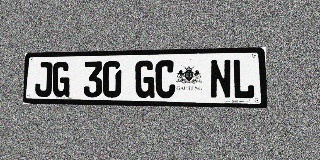0: (102, 61, 122, 98)
3: (84, 61, 102, 97)
C: (155, 60, 175, 98)
G: (135, 60, 155, 98), (52, 62, 70, 97)
J: (35, 62, 53, 97)
L: (232, 59, 255, 99)
N: (210, 59, 232, 99)
